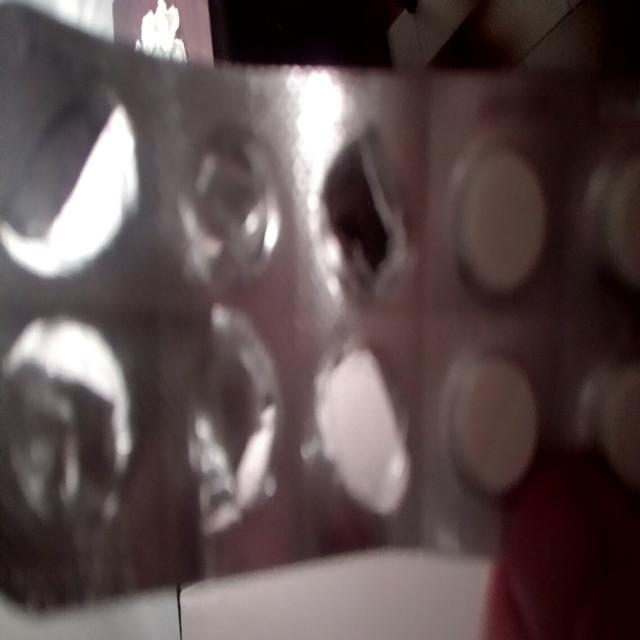Empty: (0, 306, 144, 550), (0, 42, 137, 280), (170, 308, 286, 538), (166, 100, 284, 294), (303, 120, 411, 298), (311, 336, 411, 528)
Pill: (436, 332, 548, 524), (441, 124, 554, 310), (586, 140, 640, 310), (591, 358, 640, 526)
